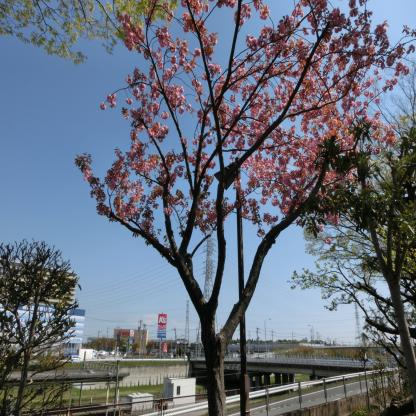YaeSakura: (71, 0, 416, 269)
